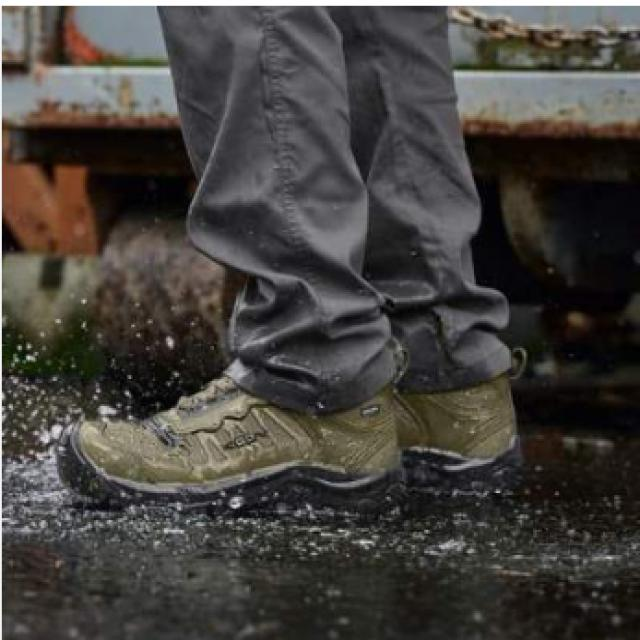boots: (57, 318, 533, 517)
